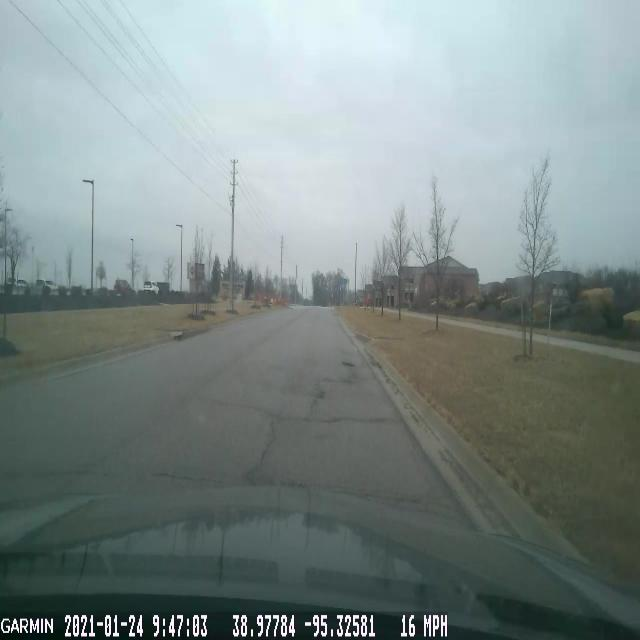Pothole: (339, 356, 357, 370)
